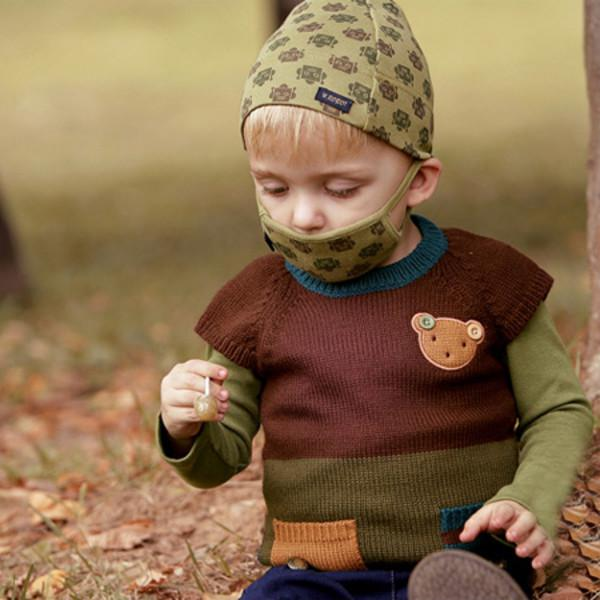WRONG: (258, 152, 393, 277)
